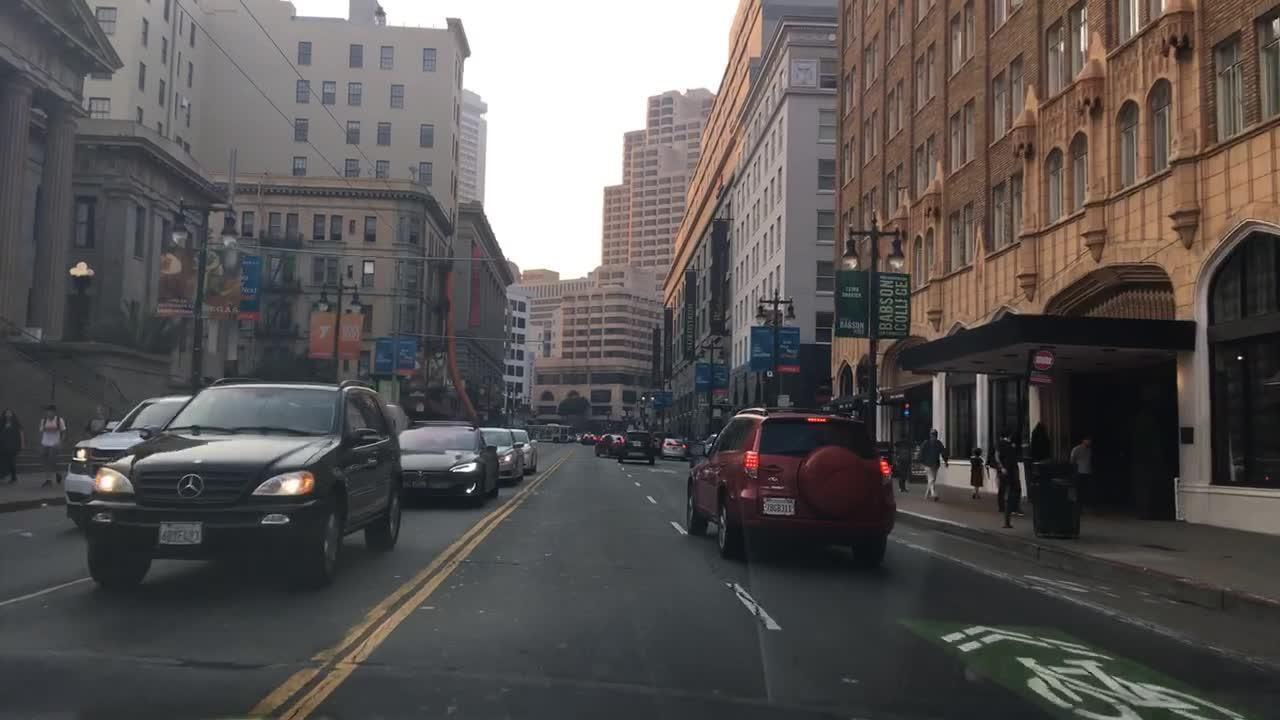Mercedes: (169, 462, 209, 505)
